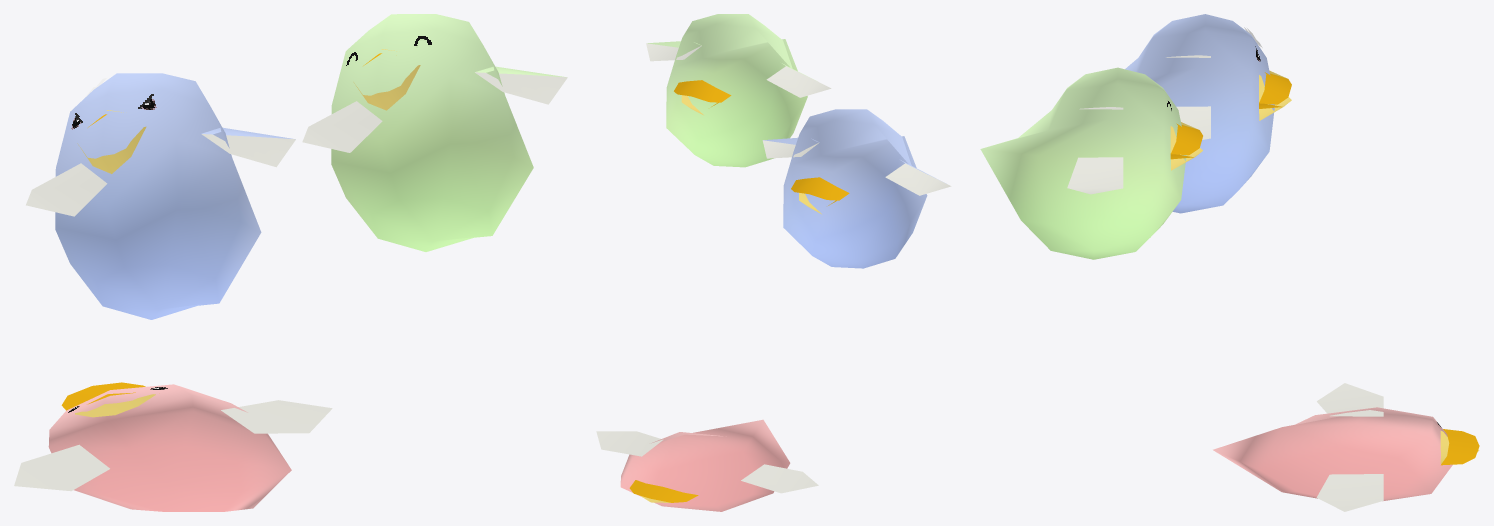
File: ps2_save-icons_bravestory.glb
3 renders of one model, left to right at view 1: azimuth 30°, elevation 25°; view 2: azimuth 150°, elevation 25°; view 3: azimuth 270°, elevation 25°, orthographic. The views are drawn at different scales.
Parts seen in each view (by area): view 1: icon.ico; view 2: icon.ico; view 3: icon.ico.
Part boxes in pixels (x1,y1,x2,y2): icon.ico: (14, 14, 567, 511); icon.ico: (596, 14, 951, 511); icon.ico: (980, 14, 1479, 511).
Size of the model in its own units: 4.44 by 4.67 by 4.72.
Materials: 1 (1 with a texture image).
